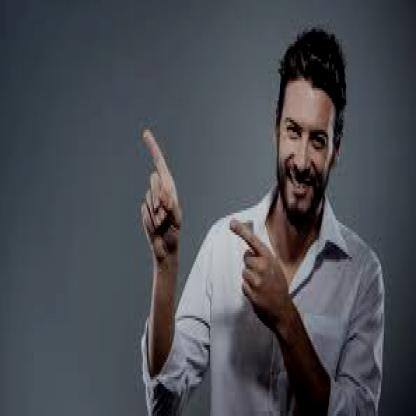Right: (218, 215, 302, 331)
Up: (132, 117, 192, 259)
